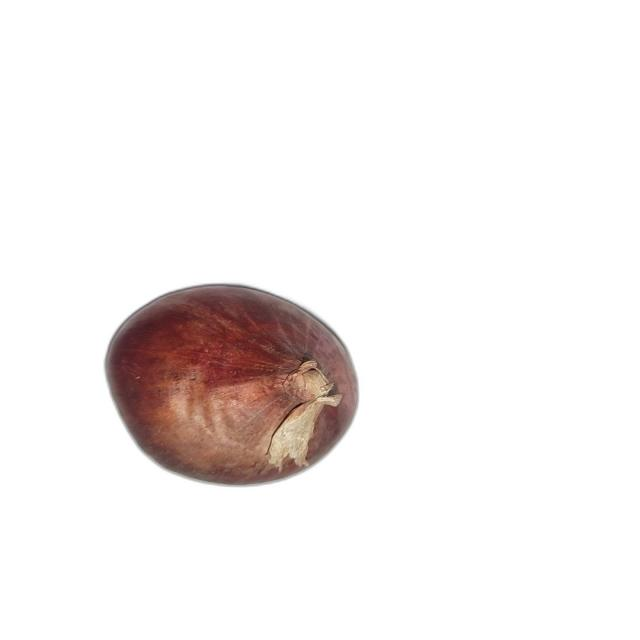onion: (105, 283, 360, 489)
